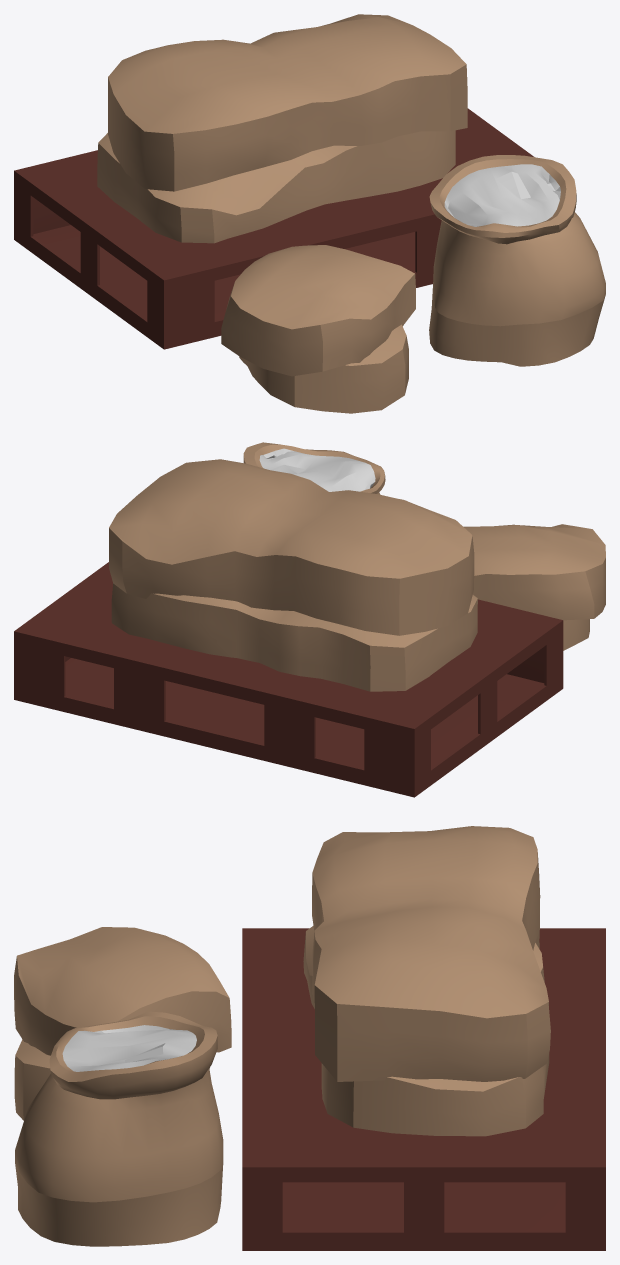
File: SacoGrao.fbx
The picture shows the model from 3 angles, top to bottom: view 1: azimuth 30°, elevation 25°; view 2: azimuth 150°, elevation 25°; view 3: azimuth 270°, elevation 25°; orthographic projection. The views are drawn at different scales.
Parts seen in each view (by area): view 1: SacoGrao; view 2: SacoGrao; view 3: SacoGrao.
Boxes of the visible parts, bbox=[...] form: SacoGrao: bbox=[14, 14, 605, 413]; SacoGrao: bbox=[14, 442, 605, 797]; SacoGrao: bbox=[14, 826, 605, 1250].
Size of the model in its own units: 319 by 164 by 334.
